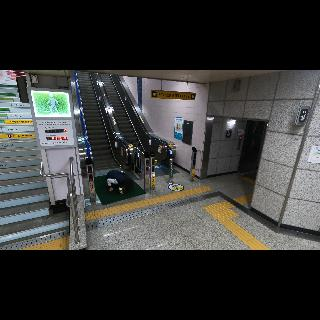anomaly: (104, 170, 132, 198)
